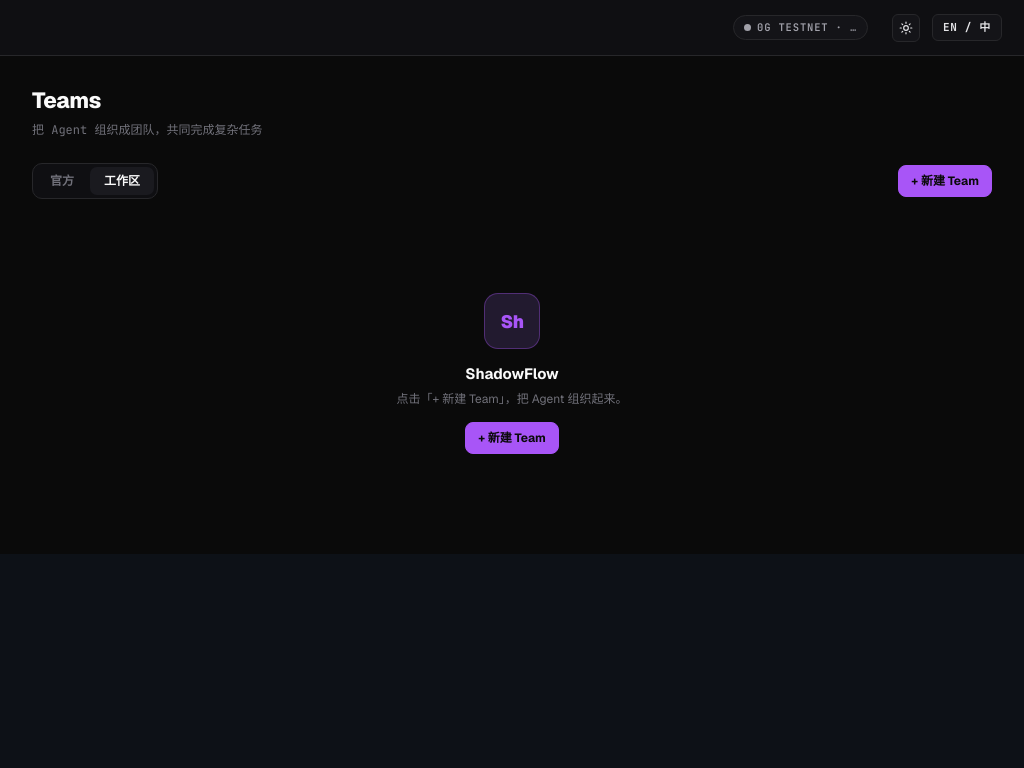
TeamListPage › opens create modal when "+ 新建 Team" clicked
Click the button with test id "new-team-btn" at (945, 181), box [898,165,992,197]
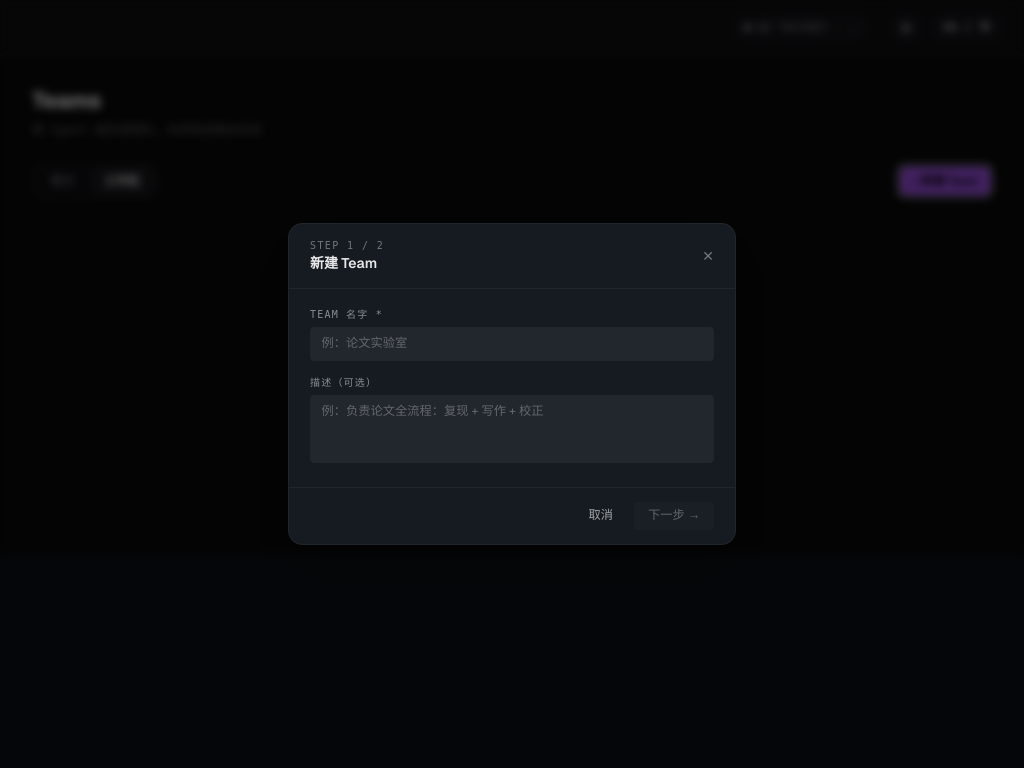
Now the element with test id "create-team-modal" is shown
